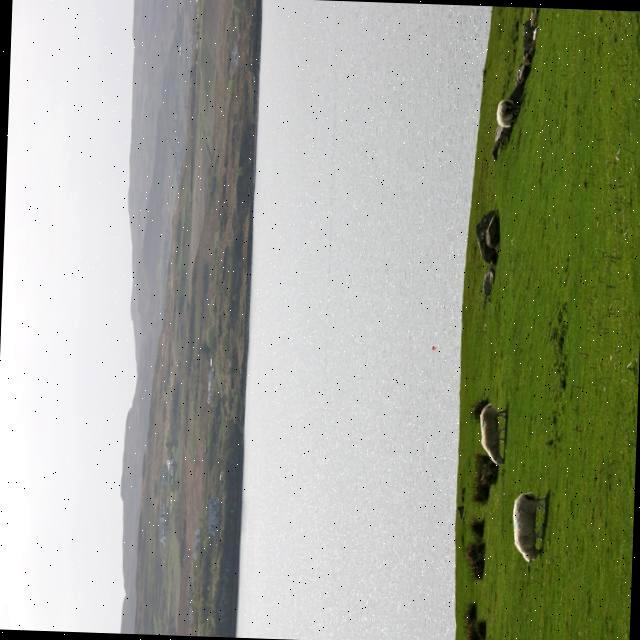sheep: (511, 493, 543, 562), (479, 403, 504, 462)
